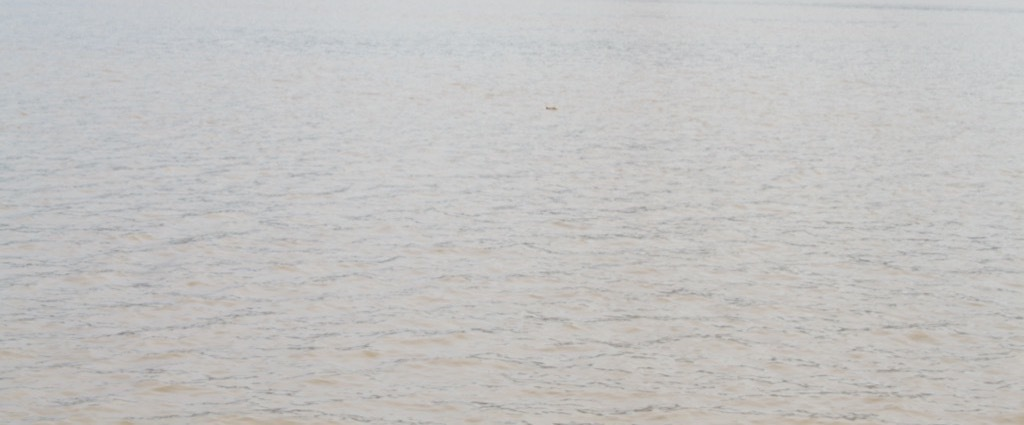plastic: (525, 87, 578, 130)
